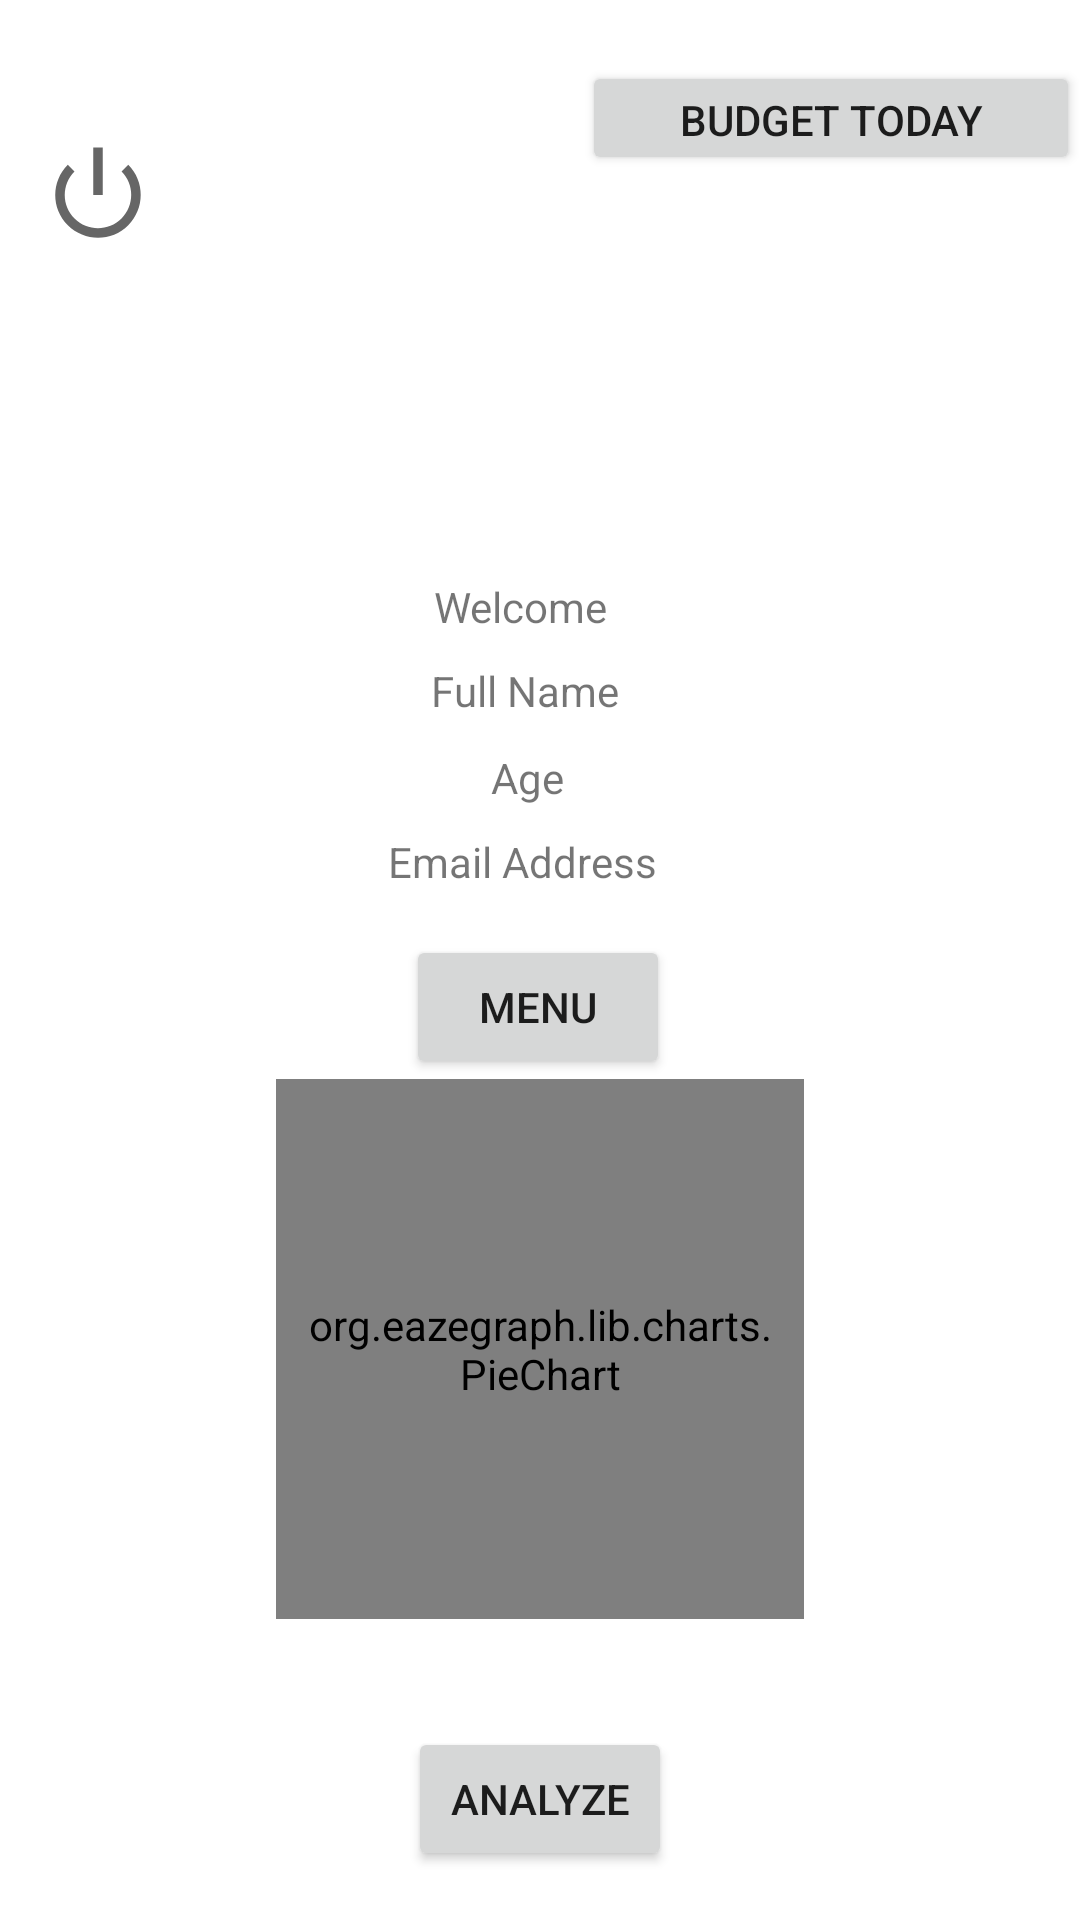

Named icons in this screenshot (1080px×1920px) and their bounding boxes, (x1, y1, x2, y2):
lock power off: (55, 147, 141, 238)
